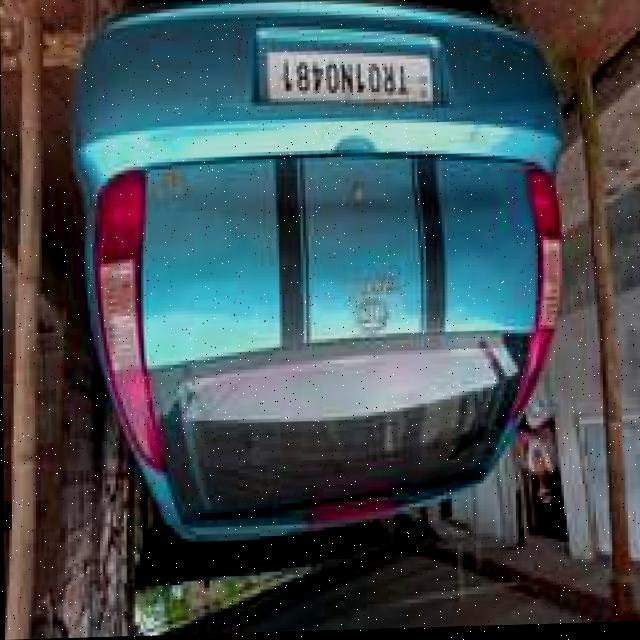plate: (259, 47, 438, 115)
